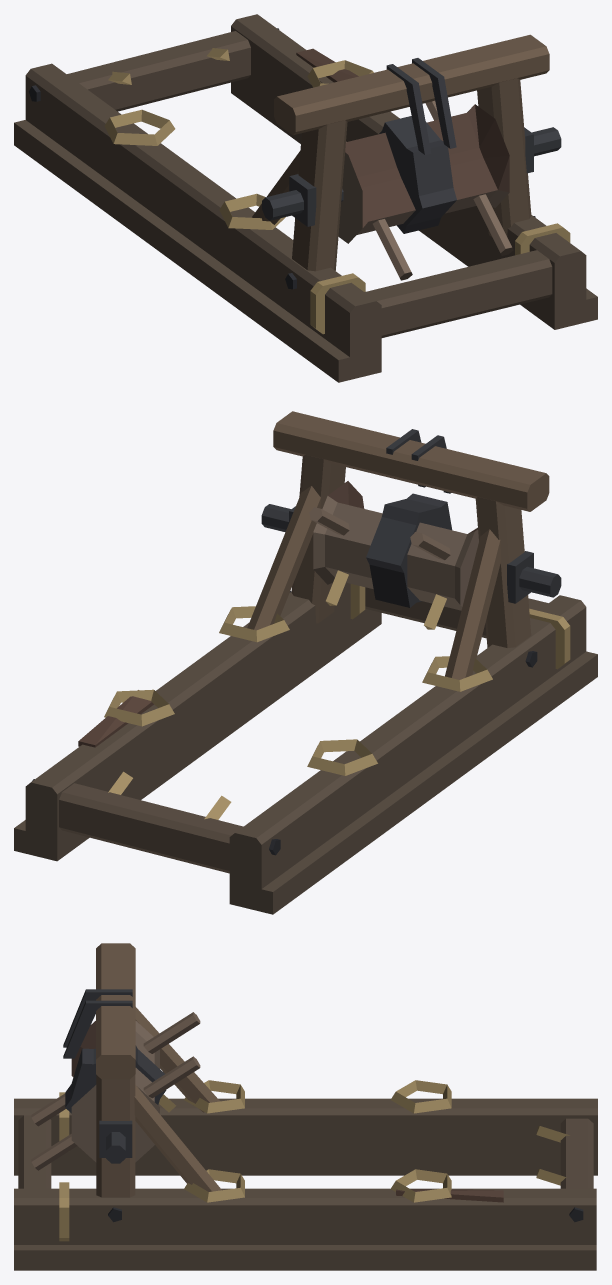
Rendered from torture-rack-b3f09c.glb.
3 views of the same model, one above another, from view 1: azimuth 30°, elevation 25°; view 2: azimuth 150°, elevation 25°; view 3: azimuth 270°, elevation 25° (orthographic). The views are drawn at different scales.
Visible parts, largest first — view 1: rack, windlass, pawl-straps, spoke-bars; view 2: rack, windlass, spoke-bars, pawl-straps; view 3: rack, windlass, spoke-bars, pawl-straps.
Part boxes in pixels (x1,y1,x2,y2): rack: (14, 14, 597, 382); windlass: (262, 104, 561, 243); pawl-straps: (386, 58, 456, 154); spoke-bars: (346, 100, 513, 280); rack: (14, 411, 597, 914); windlass: (261, 481, 561, 610); spoke-bars: (309, 507, 450, 560); pawl-straps: (386, 429, 450, 493); rack: (14, 943, 597, 1270); windlass: (65, 1021, 166, 1163); spoke-bars: (31, 1012, 200, 1170); pawl-straps: (63, 989, 132, 1058).
Bounding box in the file's own units: 1 × 0.8 × 1.95.
